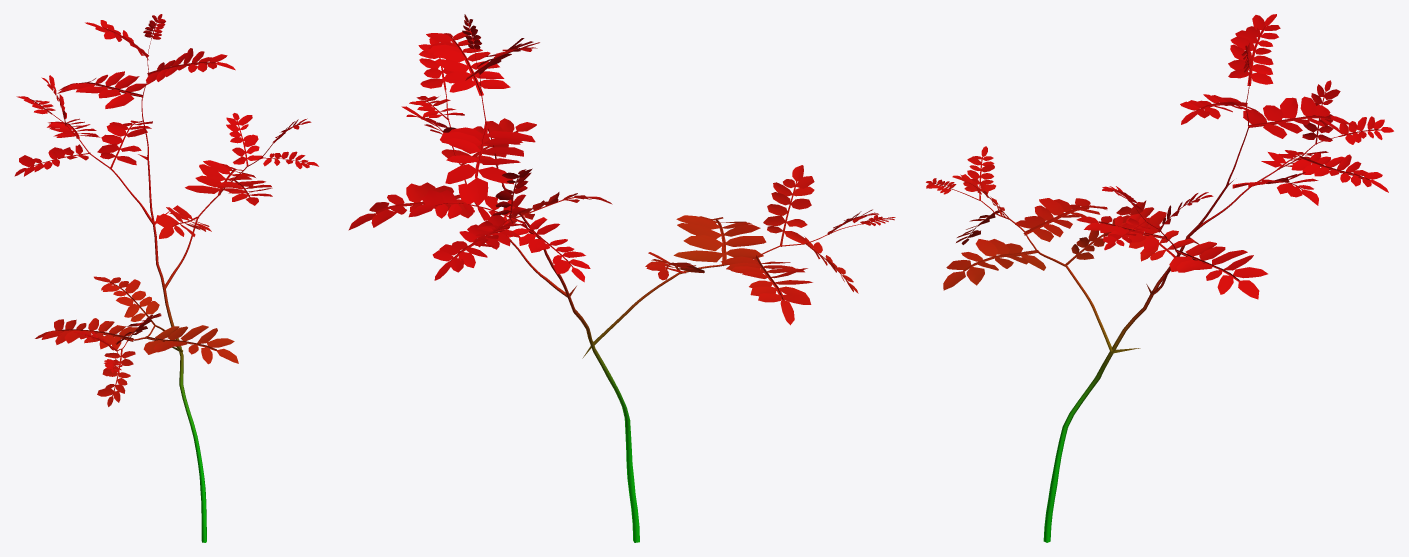
Rendered from Black Locust_LOD1_Var8.fbx.
The picture shows the model from 3 angles, left to right: view 1: azimuth 30°, elevation 25°; view 2: azimuth 150°, elevation 25°; view 3: azimuth 270°, elevation 25°; orthographic projection. The views are drawn at different scales.
Visible parts, largest first — view 1: _shnj_Var8_LOD1; view 2: _shnj_Var8_LOD1; view 3: _shnj_Var8_LOD1.
Part boxes in pixels (x1,y1,x2,y2): _shnj_Var8_LOD1: [14, 14, 318, 542]; _shnj_Var8_LOD1: [348, 14, 895, 542]; _shnj_Var8_LOD1: [926, 14, 1393, 542].
Bounding box in the file's own units: 59.01 × 85.8 × 70.08.
